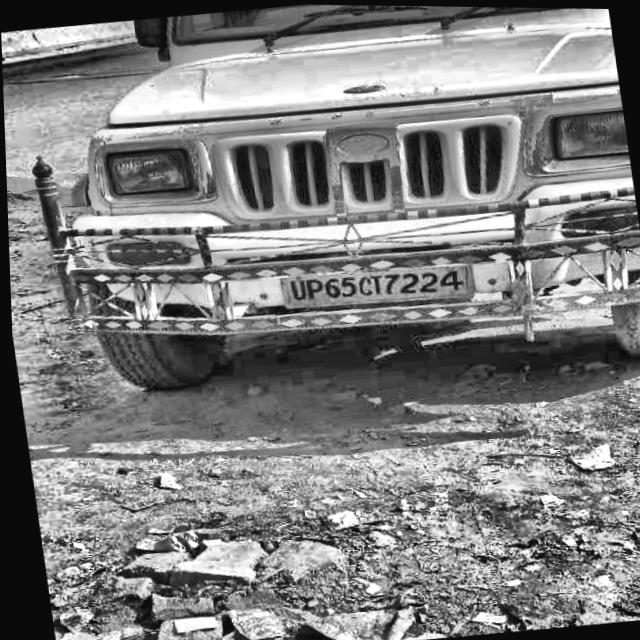light_vehicle: (19, 0, 640, 361)
